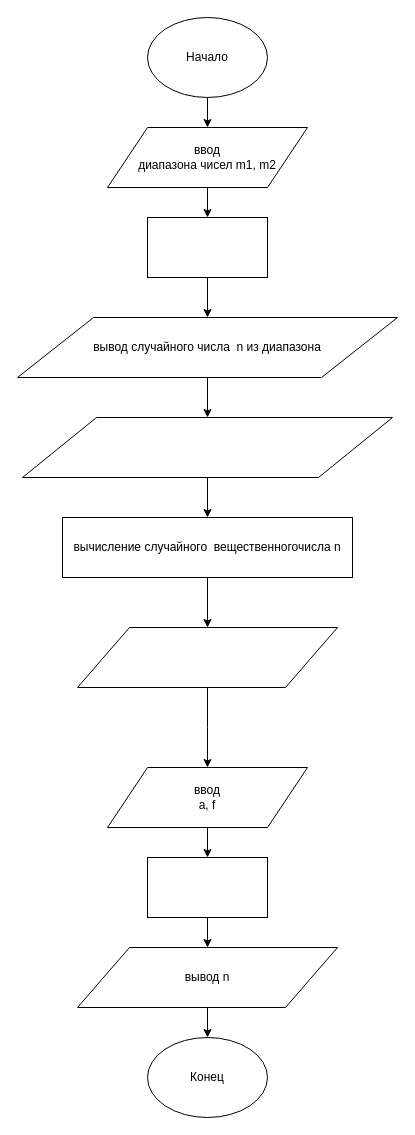
This 415x1135 diagram has some shape labels left out. Here are the shapes that lost their labels. From the top down, the box of each, then its label:
(146, 216, 268, 278): вычисление случайного целого числа n
(22, 416, 392, 478): ввод диапазона вещественных чисел m1, m2
(76, 626, 338, 688): вывод вещественного n
(146, 856, 268, 918): вычисление случайного символа
